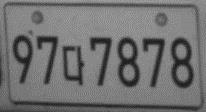7: (142, 37, 165, 88), (89, 36, 112, 86), (36, 35, 58, 85)
8: (116, 36, 140, 87), (170, 37, 194, 88)
9: (11, 34, 32, 83)
다: (61, 45, 84, 86)
